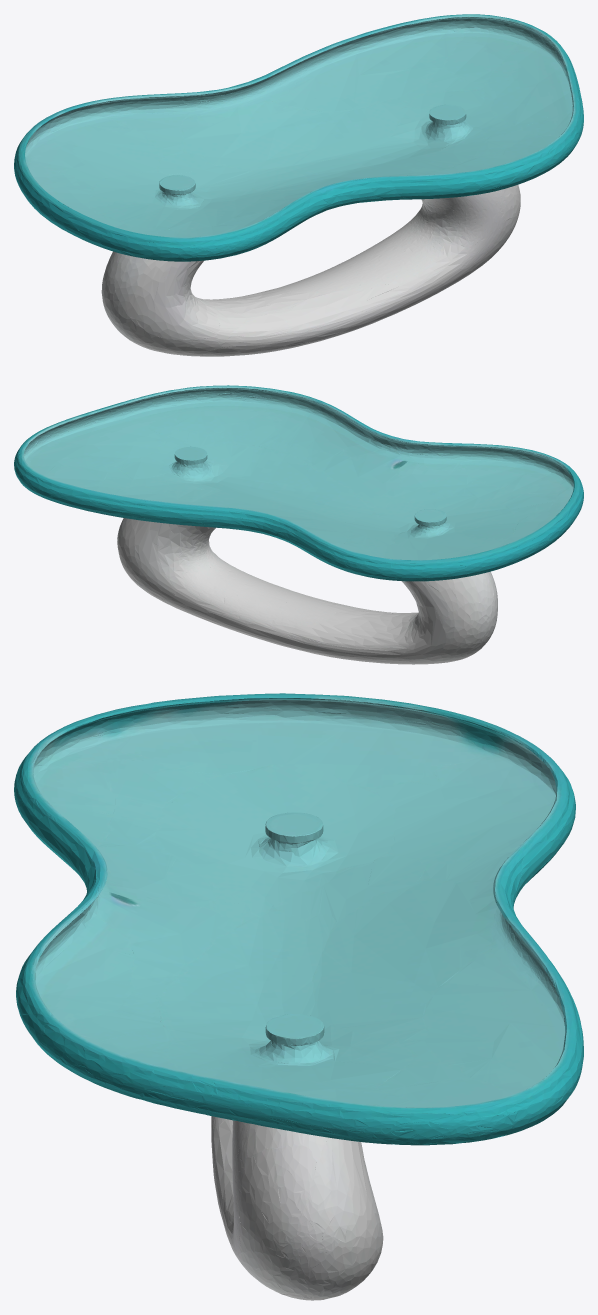
File: aqua-table.glb
The picture shows the model from 3 angles, top to bottom: view 1: azimuth 30°, elevation 25°; view 2: azimuth 150°, elevation 25°; view 3: azimuth 270°, elevation 25°; orthographic projection. The views are drawn at different scales.
Parts seen in each view (by area): view 1: material; view 2: material; view 3: material.
Part boxes in pixels (left/top/right/bottom): material: left=14, top=14, right=583, bottom=356; material: left=14, top=385, right=583, bottom=664; material: left=14, top=693, right=583, bottom=1300.
Size of the model in its own units: 1.1 by 0.3827 by 0.6226.
1 material, 1 textured.
